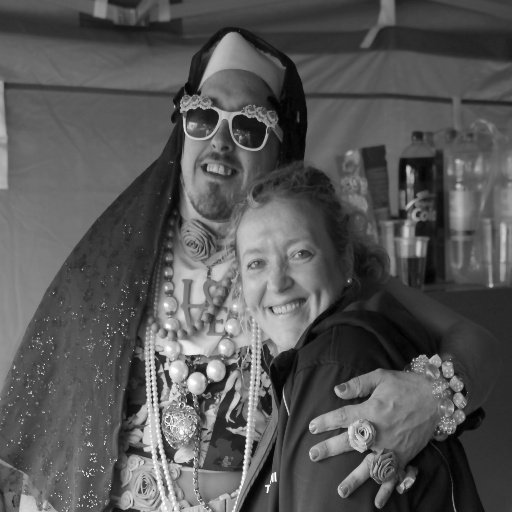hand: (315, 360, 432, 483)
